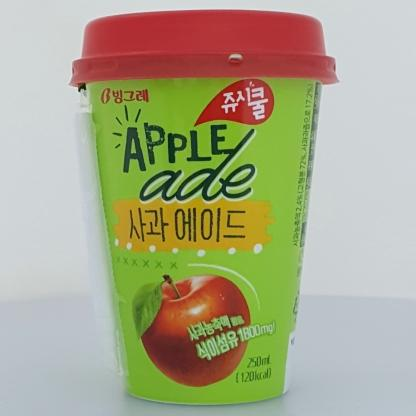--------: (68, 10, 340, 405)
